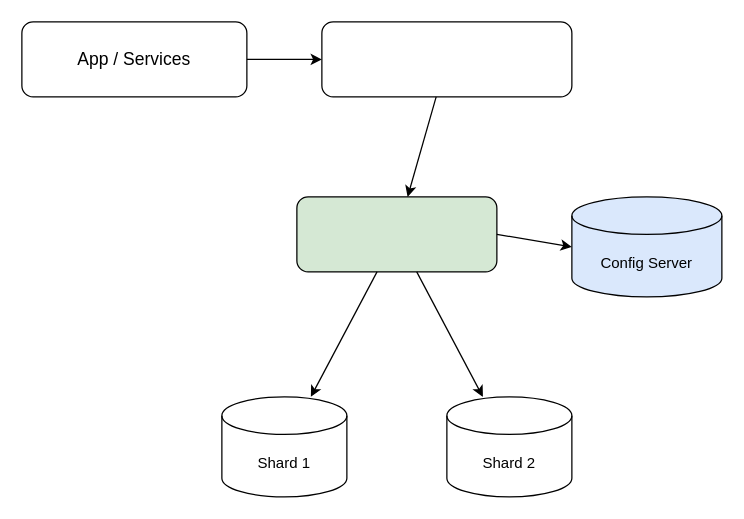
Image size: 744x519. Some labels were removed from this diagram. Each missing label, with the box of its shape:
mongos router: (296, 196, 497, 272)
pymongo-api / backend: (321, 21, 572, 97)
